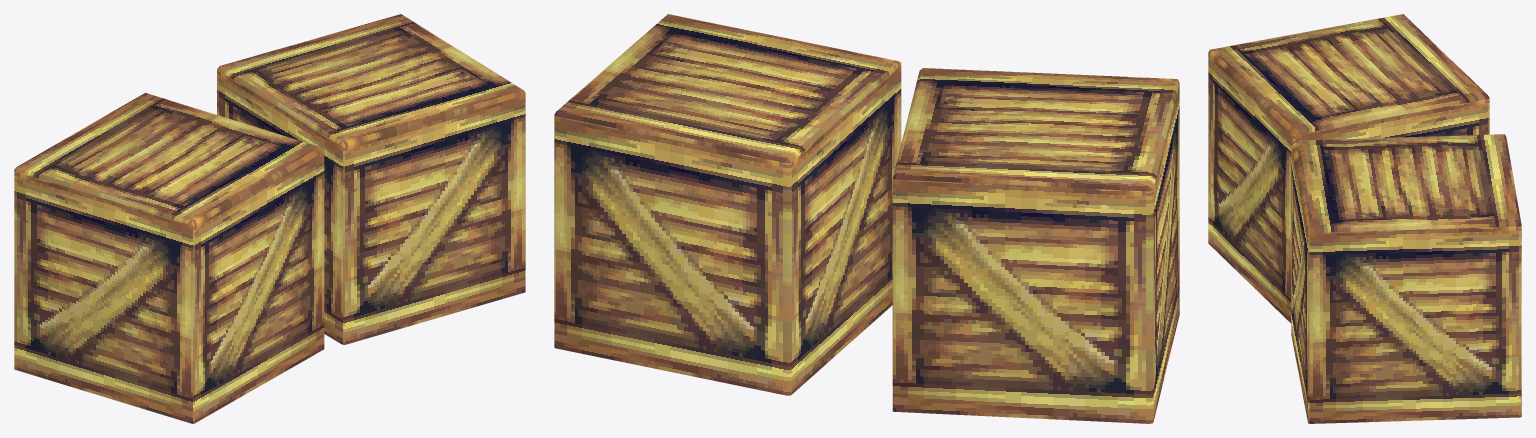
The model's file is wbox48-1.glb.
3 renders of one model, left to right at view 1: azimuth 30°, elevation 25°; view 2: azimuth 150°, elevation 25°; view 3: azimuth 270°, elevation 25°, orthographic. The views are drawn at different scales.
Visible parts, largest first — view 1: wbox48_1; view 2: wbox48_1; view 3: wbox48_1.
Boxes of the visible parts, x1=… form: wbox48_1: x1=14, y1=14, x2=525, y2=423; wbox48_1: x1=554, y1=14, x2=1179, y2=423; wbox48_1: x1=1208, y1=14, x2=1521, y2=423.
Bounding box in the file's own units: 335 × 139 × 204.
2 materials, 2 textured.
